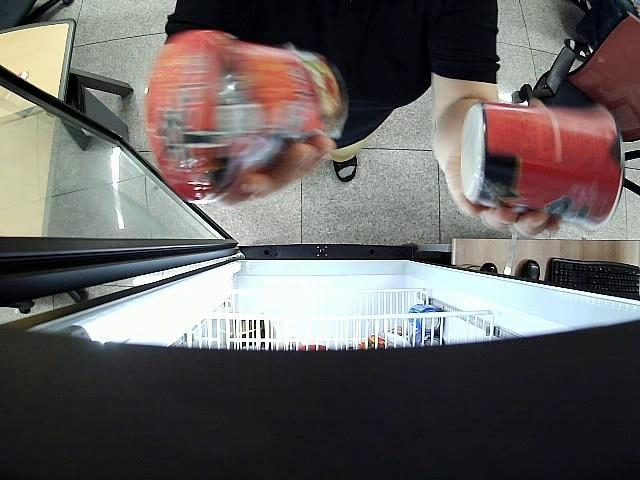02_shinRamen_S: (141, 29, 348, 204), (461, 102, 624, 232)
